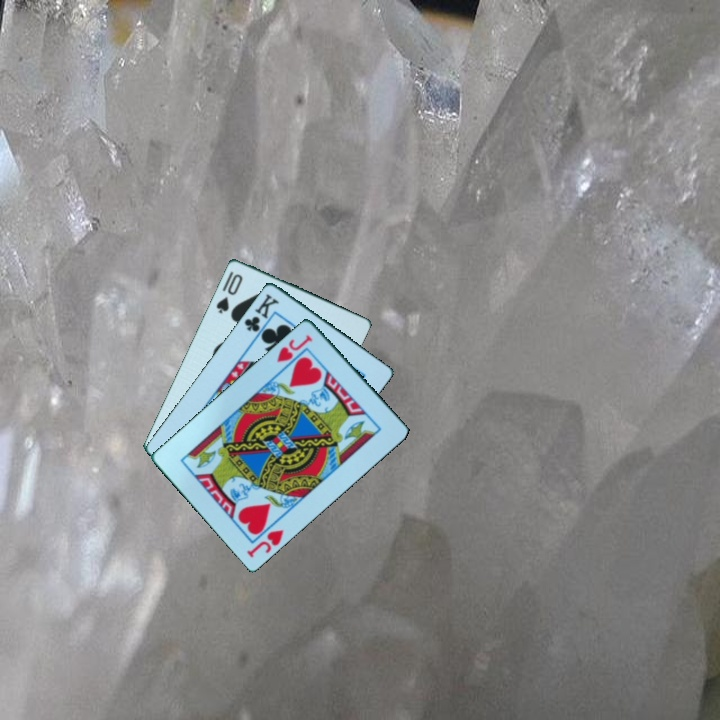10s: (212, 270, 246, 316)
Jh: (243, 525, 287, 560), (273, 331, 316, 365)
Kc: (240, 290, 282, 335)
